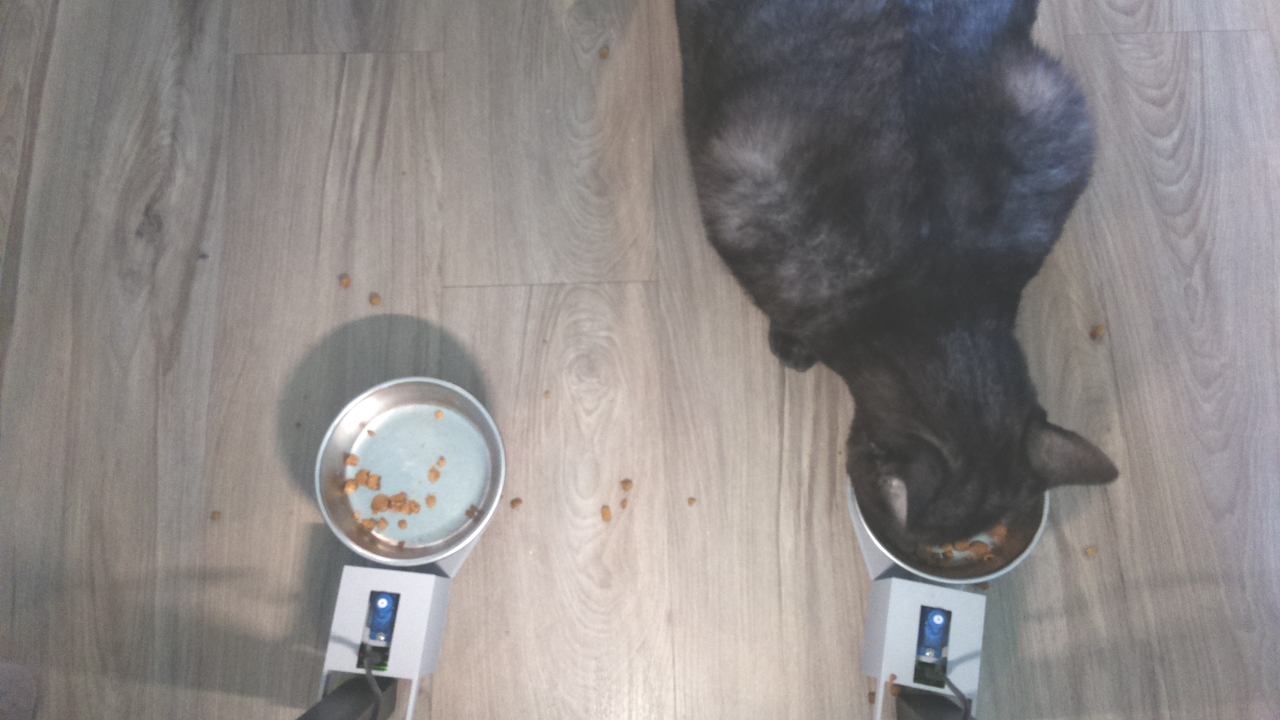open_bowl: (313, 372, 512, 572)
saki_eating: (839, 351, 1129, 590)
